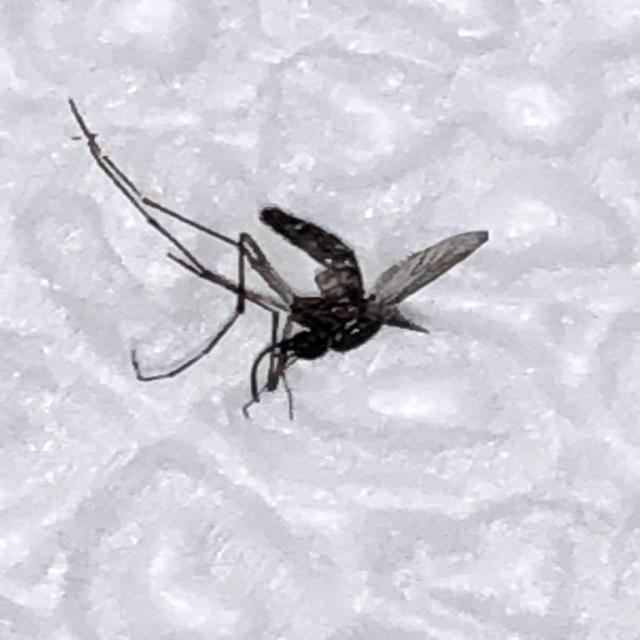albopictus: (55, 95, 493, 419)
